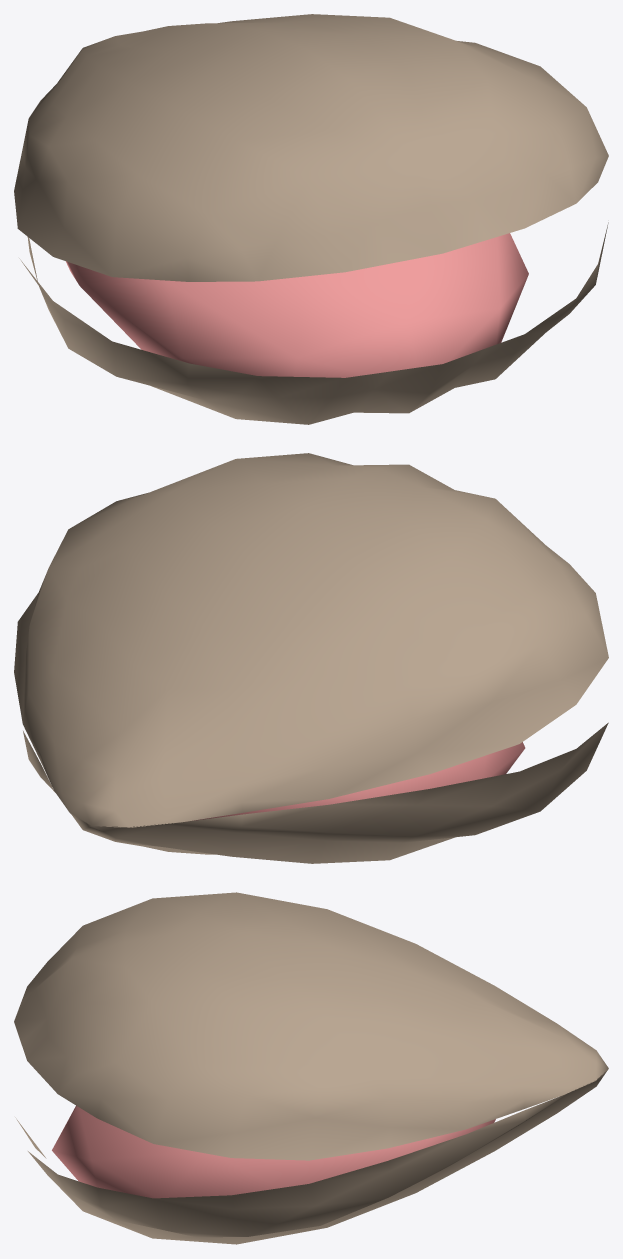
The model's file is 7UsYZIZ_rhU.glb.
3 views of the same model, one above another, from view 1: azimuth 30°, elevation 25°; view 2: azimuth 150°, elevation 25°; view 3: azimuth 270°, elevation 25° (orthographic). The views are drawn at different scales.
Visible parts, largest first — view 1: Sphere.1; view 2: Sphere.1; view 3: Sphere.1.
Boxes of the visible parts, x1=… form: Sphere.1: x1=14, y1=14, x2=608, y2=424; Sphere.1: x1=14, y1=453, x2=608, y2=863; Sphere.1: x1=14, y1=892, x2=608, y2=1244.
Bounding box in the file's own units: 1.71 × 1 × 1.99.
